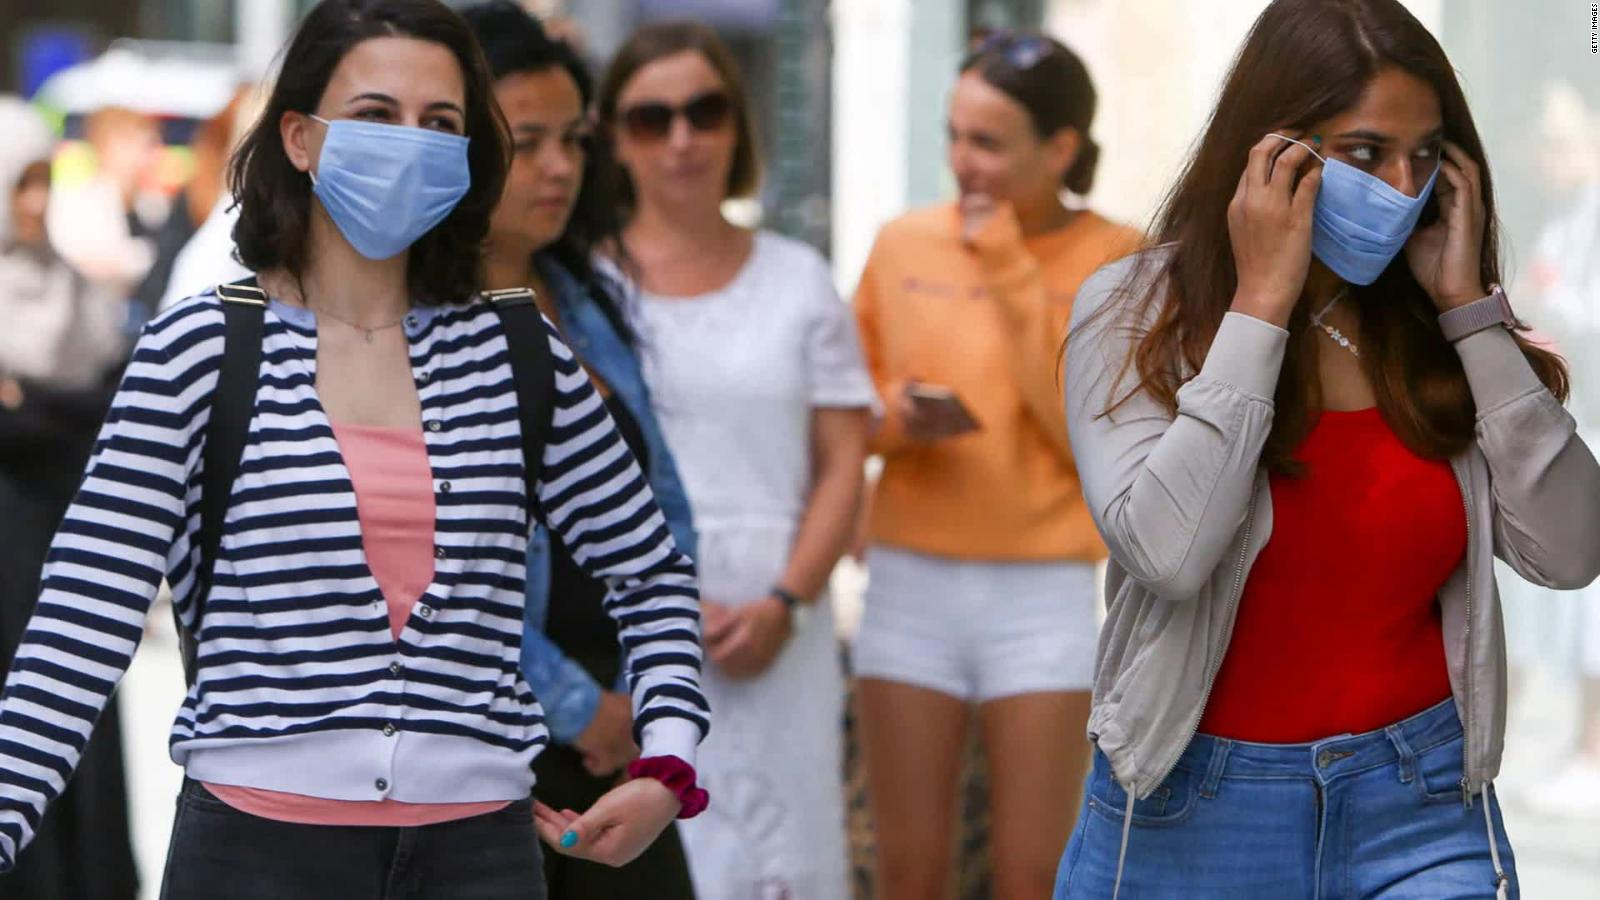with_mask: (1317, 107, 1465, 288), (344, 72, 461, 246)
without_mask: (618, 89, 738, 211), (944, 81, 1050, 212)
